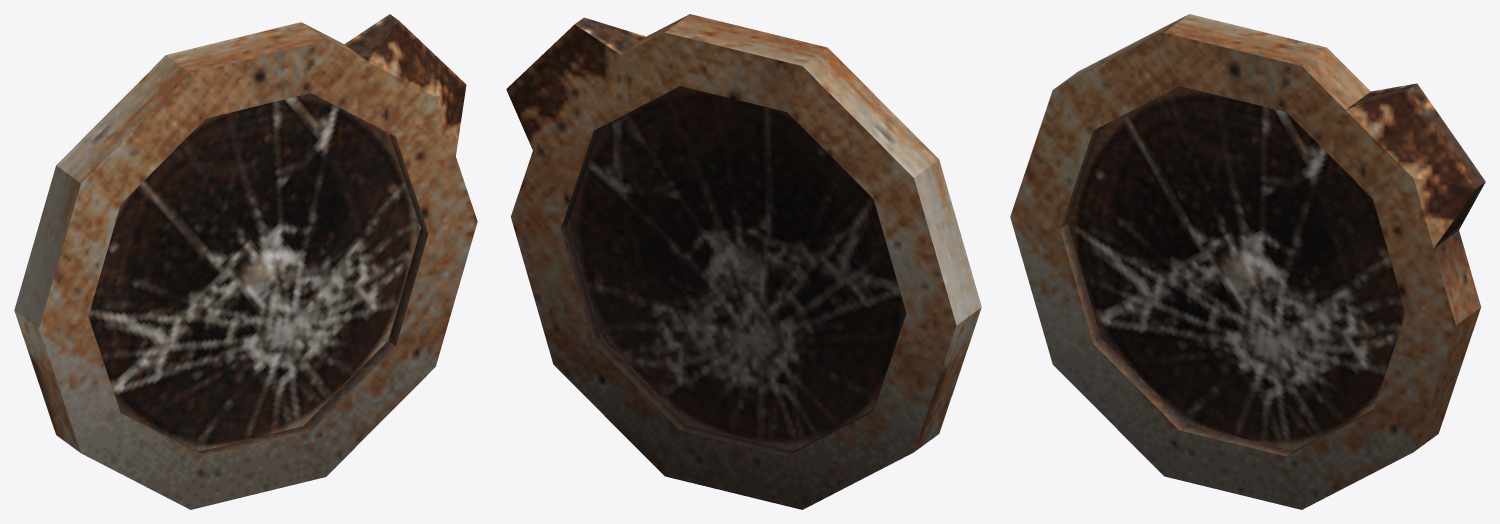
The model's file is washing-machine-door_dirty.obj.
The picture shows the model from 3 angles, left to right: view 1: azimuth 30°, elevation 25°; view 2: azimuth 150°, elevation 25°; view 3: azimuth 330°, elevation 25°; orthographic projection.
Visible parts, largest first — view 1: washing-machine-door_dirty-col; view 2: washing-machine-door_dirty-col; view 3: washing-machine-door_dirty-col.
Part boxes in pixels (left/top/right/bottom): washing-machine-door_dirty-col: left=14, top=14, right=477, bottom=509; washing-machine-door_dirty-col: left=506, top=14, right=981, bottom=509; washing-machine-door_dirty-col: left=1010, top=14, right=1485, bottom=509.
Size of the model in its own units: 0.5718 by 0.5385 by 0.0556.
